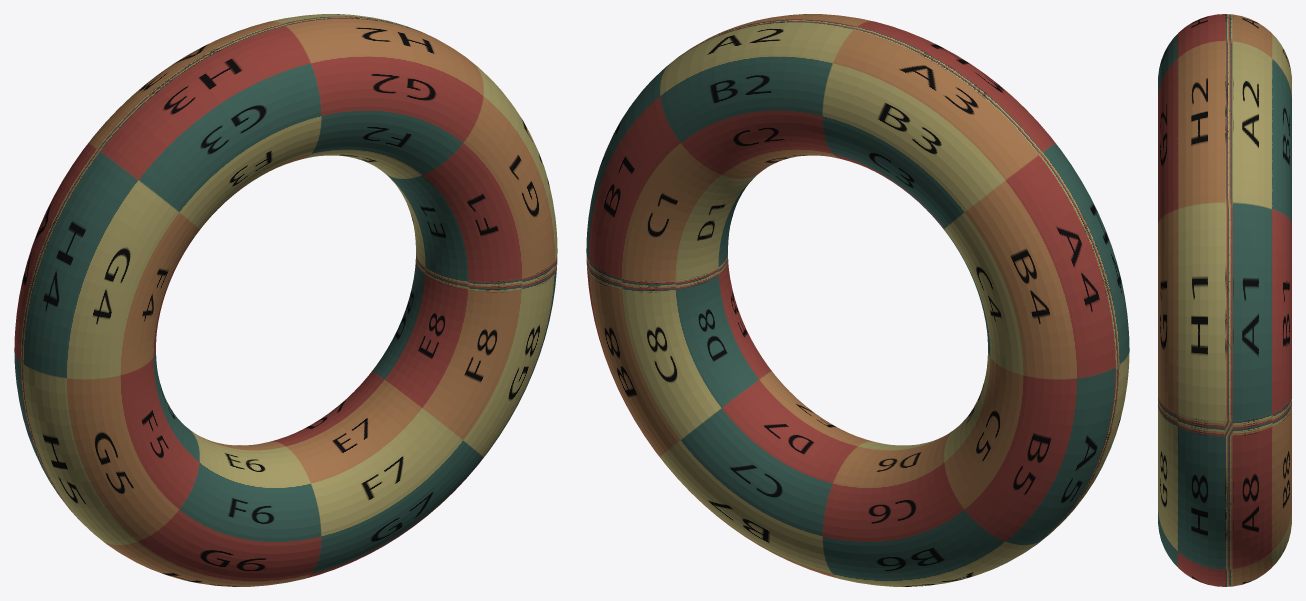
File: texture_torus_R5_r5.glb
3 views of the same model, side by side, from view 1: azimuth 30°, elevation 25°; view 2: azimuth 150°, elevation 25°; view 3: azimuth 270°, elevation 25° (orthographic). The views are drawn at different scales.
Visible parts, largest first — view 1: world; view 2: world; view 3: world.
Boxes of the visible parts, x1,y1,x2,y2 form: world: (14, 14, 557, 586); world: (586, 14, 1129, 586); world: (1158, 14, 1291, 586).
Bounding box in the file's own units: 27.56 × 27.56 × 6.43.
1 material, 1 textured.
